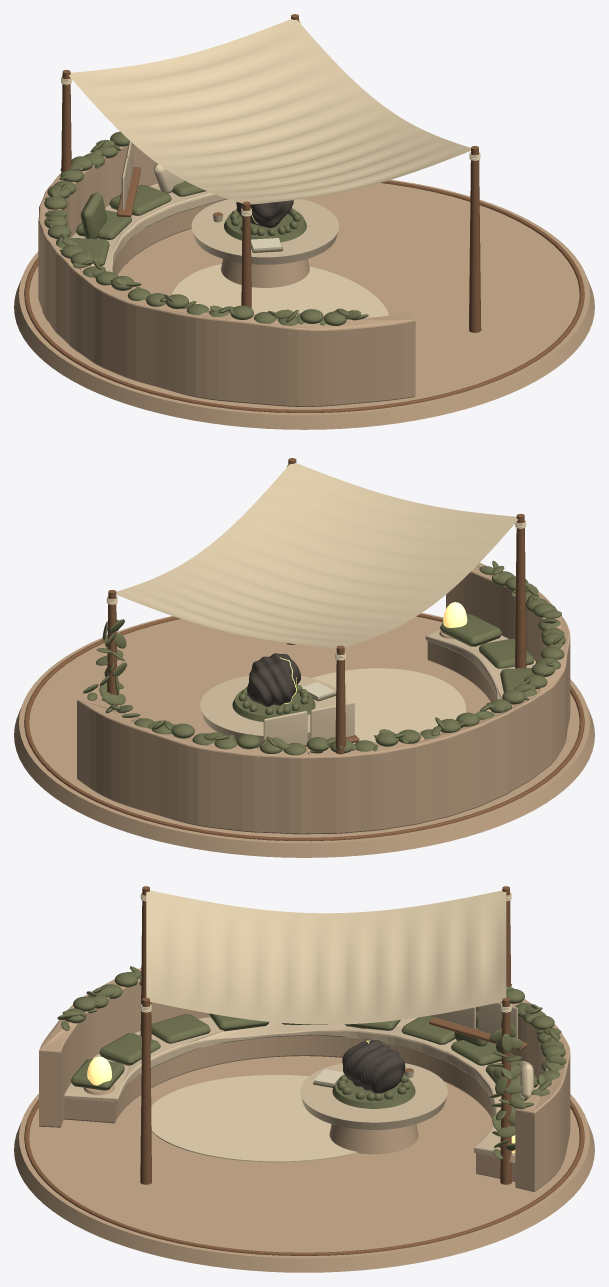
The model's file is hearth-cove-warm.glb.
The picture shows the model from 3 angles, top to bottom: view 1: azimuth 30°, elevation 25°; view 2: azimuth 150°, elevation 25°; view 3: azimuth 270°, elevation 25°; orthographic projection.
Visible parts, largest first — view 1: Mesh_Platform, Mesh_LinenCanopy, Mesh_CurvedBack, Mesh_WovenRug, Mesh_CreationTable, Mesh_PlatformInlay, Mesh_SeatTop, Mesh_CanopyMast_1, Mesh_SeatPlinth, Mesh_TableFoot, Mesh_CoreBed, Mesh_CanopyMast_3 (+7 smaller); view 2: Mesh_CurvedBack, Mesh_LinenCanopy, Mesh_Platform, Mesh_WovenRug, Mesh_PlatformInlay, Mesh_CreationTable, Mesh_KilnSeedstone, Mesh_CanopyMast_3, Mesh_SeatTop, Mesh_SeatPlinth, Mesh_ReferenceFrame_0, Mesh_ReferenceFrame_1 (+6 smaller); view 3: Mesh_Platform, Mesh_LinenCanopy, Mesh_CurvedBack, Mesh_WovenRug, Mesh_SeatPlinth, Mesh_SeatTop, Mesh_CreationTable, Mesh_PlatformInlay, Mesh_KilnSeedstone, Mesh_TableFoot, Mesh_CanopyMast_1, Mesh_CanopyMast_0 (+12 smaller).
Boxes of the visible parts, left/top/right/bottom form: Mesh_Platform: left=14, top=180, right=594, bottom=429; Mesh_LinenCanopy: left=69, top=19, right=470, bottom=204; Mesh_CurvedBack: left=38, top=145, right=415, bottom=406; Mesh_WovenRug: left=172, top=264, right=389, bottom=319; Mesh_CreationTable: left=191, top=199, right=339, bottom=264; Mesh_PlatformInlay: left=24, top=180, right=584, bottom=412; Mesh_SeatTop: left=71, top=183, right=227, bottom=272; Mesh_CanopyMast_1: left=469, top=146, right=481, bottom=332; Mesh_SeatPlinth: left=113, top=199, right=227, bottom=274; Mesh_TableFoot: left=221, top=259, right=309, bottom=287; Mesh_CoreBed: left=224, top=211, right=306, bottom=242; Mesh_CanopyMast_3: left=241, top=201, right=251, bottom=308; Mesh_CurvedBack: left=77, top=563, right=570, bottom=834; Mesh_LinenCanopy: left=116, top=463, right=518, bottom=648; Mesh_Platform: left=14, top=613, right=594, bottom=857; Mesh_WovenRug: left=312, top=668, right=465, bottom=743; Mesh_PlatformInlay: left=24, top=613, right=584, bottom=841; Mesh_CreationTable: left=200, top=676, right=347, bottom=743; Mesh_KilnSeedstone: left=247, top=653, right=300, bottom=706; Mesh_CanopyMast_3: left=515, top=513, right=526, bottom=668; Mesh_SeatTop: left=425, top=629, right=535, bottom=699; Mesh_SeatPlinth: left=427, top=641, right=496, bottom=701; Mesh_ReferenceFrame_0: left=263, top=711, right=307, bottom=745; Mesh_ReferenceFrame_1: left=310, top=702, right=354, bottom=739; Mesh_Platform: left=14, top=1056, right=594, bottom=1272; Mesh_LinenCanopy: left=146, top=890, right=506, bottom=1024; Mesh_CurvedBack: left=39, top=968, right=570, bottom=1191; Mesh_WovenRug: left=151, top=1075, right=357, bottom=1162; Mesh_SeatPlinth: left=64, top=1035, right=515, bottom=1181; Mesh_SeatTop: left=64, top=1016, right=539, bottom=1156; Mesh_CreationTable: left=300, top=1063, right=447, bottom=1129; Mesh_PlatformInlay: left=24, top=1099, right=584, bottom=1255; Mesh_KilnSeedstone: left=342, top=1040, right=405, bottom=1093; Mesh_TableFoot: left=329, top=1124, right=418, bottom=1154; Mesh_CanopyMast_1: left=140, top=997, right=151, bottom=1184; Mesh_CanopyMast_0: left=500, top=997, right=511, bottom=1184.
Size of the model in its own units: 9.36 by 3.47 by 9.36.
